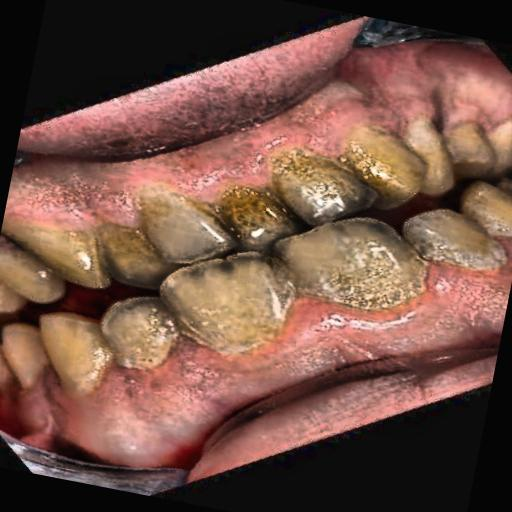Calculus: (186, 89, 512, 338)
